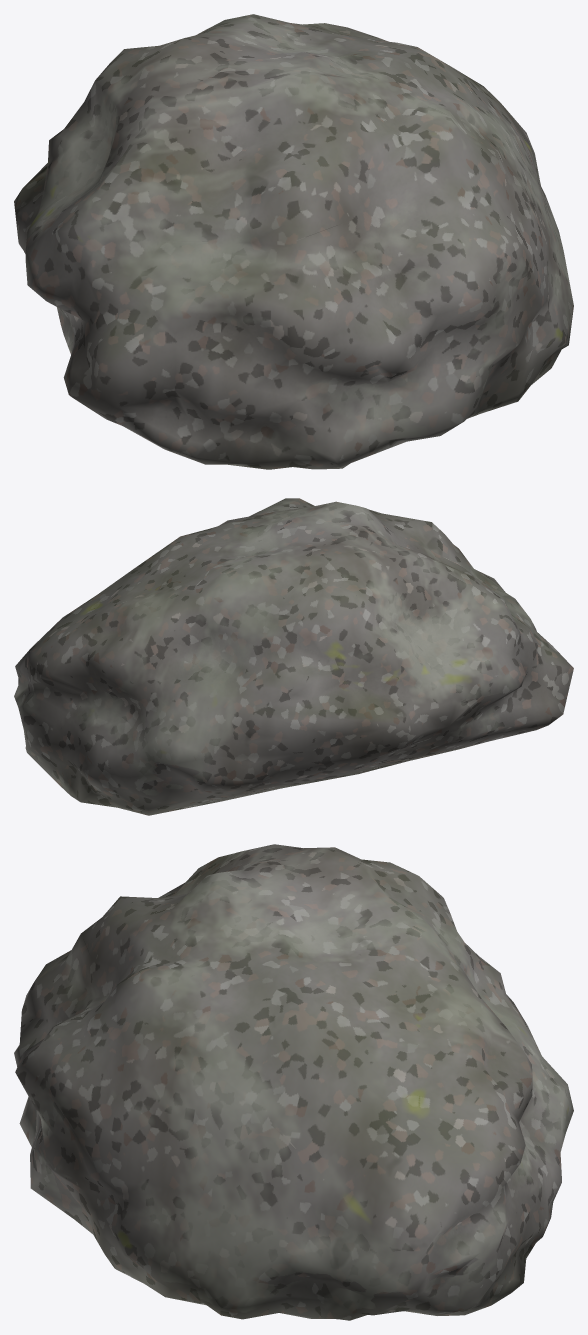
File: boulder_050_LOD0.fbx
3 renders of one model, top to bottom at view 1: azimuth 30°, elevation 25°; view 2: azimuth 150°, elevation 25°; view 3: azimuth 270°, elevation 25°, orthographic. The views are drawn at different scales.
Visible parts, largest first — view 1: Boulder_050_LOD0; view 2: Boulder_050_LOD0; view 3: Boulder_050_LOD0.
Part boxes in pixels (left/top/right/bottom): Boulder_050_LOD0: left=14, top=14, right=573, bottom=469; Boulder_050_LOD0: left=14, top=498, right=573, bottom=815; Boulder_050_LOD0: left=14, top=844, right=573, bottom=1320.
Bounding box in the file's own units: 0.4787 × 0.2646 × 0.4074.
1 material, 1 textured.
